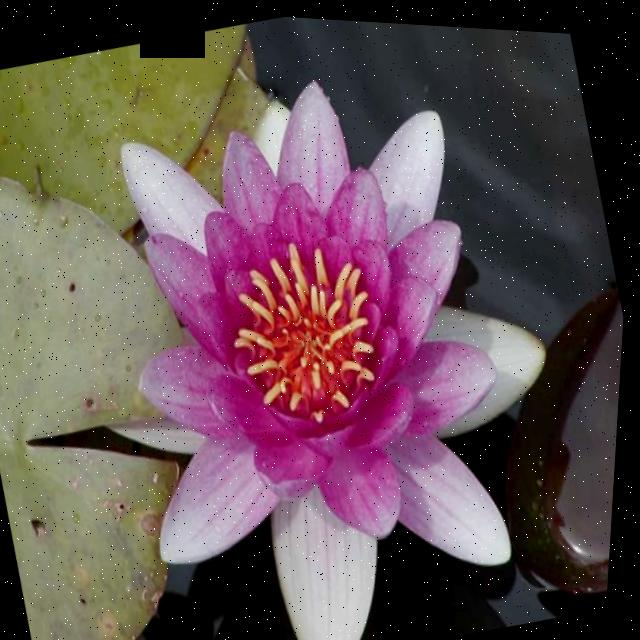water-lily: (0, 0, 640, 640)
